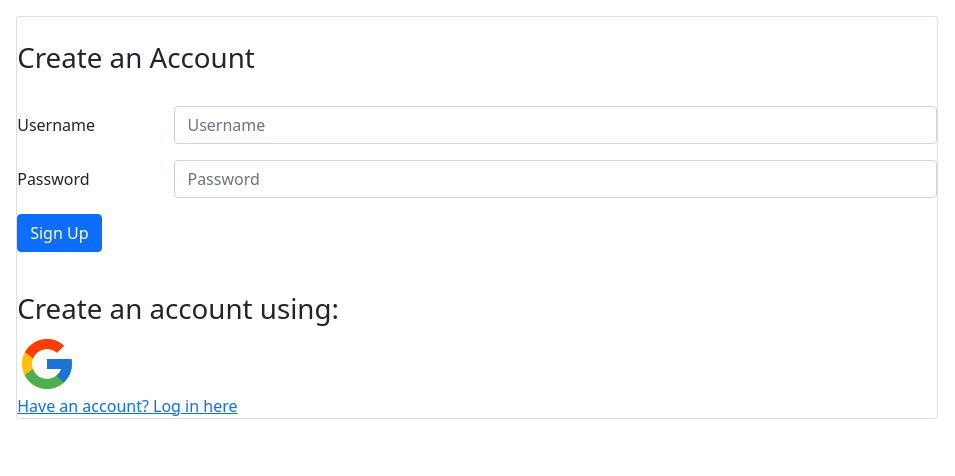
Test: local account access › shows a service error when signup rejects an existing username
Type "alex" into the field labelled "Username" at (556, 125), box [174, 106, 937, 144]
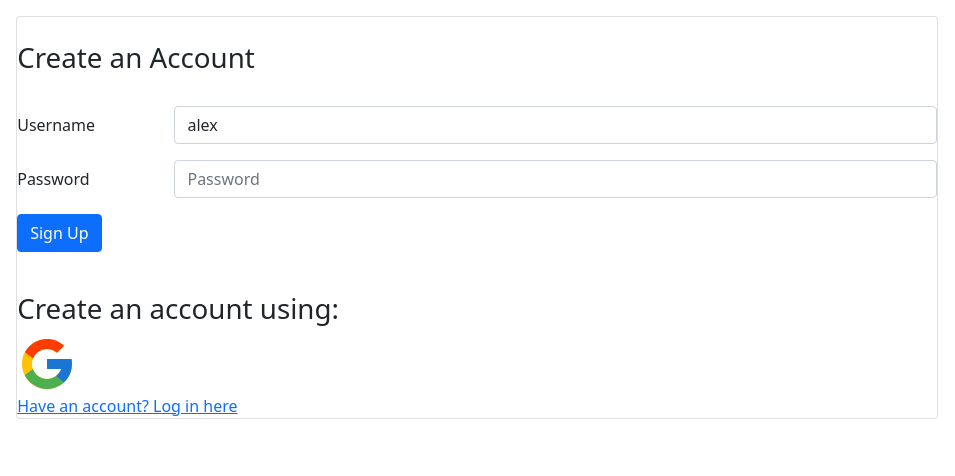
Type "correct-horse" into the password field labelled "Password" at (556, 179), box [174, 160, 937, 198]
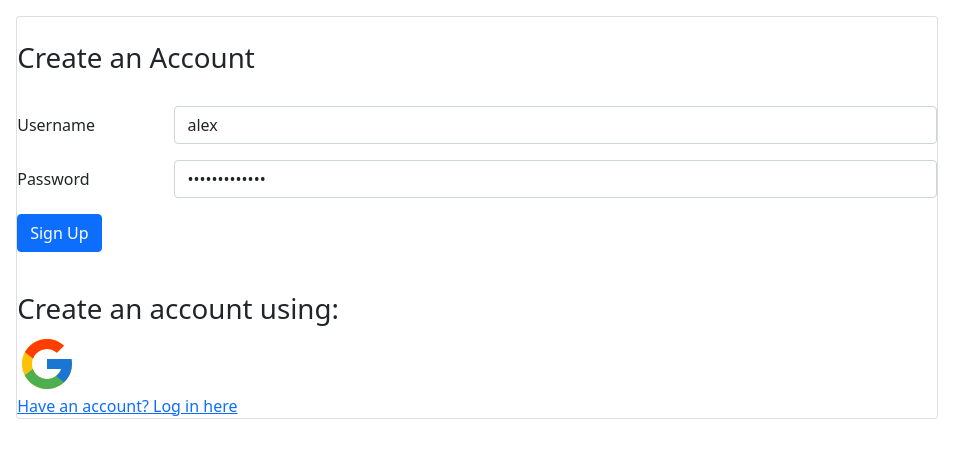
Click the button "Sign Up" at (59, 233), box [17, 214, 102, 252]
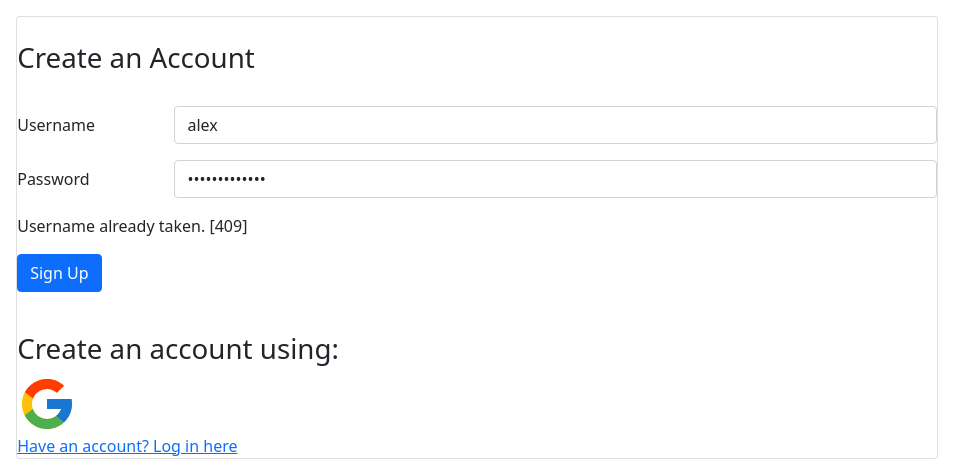
Expected: the text "Username already taken. [409]" is shown, [17, 215, 247, 237]
